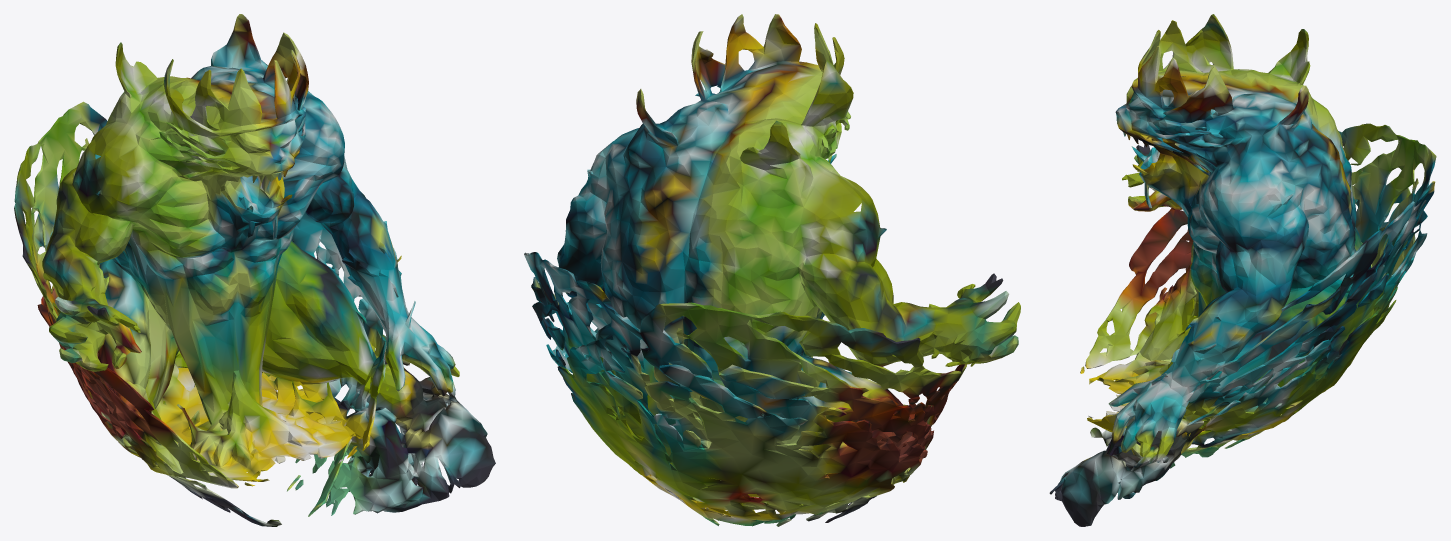
The model's file is seahorseKnight.glb.
3 views of the same model, side by side, from view 1: azimuth 30°, elevation 25°; view 2: azimuth 150°, elevation 25°; view 3: azimuth 270°, elevation 25° (orthographic). The views are drawn at different scales.
Parts seen in each view (by area): view 1: world; view 2: world; view 3: world.
Part boxes in pixels (x1,y1,x2,y2): world: [14, 14, 495, 526]; world: [524, 14, 1020, 526]; world: [1049, 14, 1436, 526].
Size of the model in its own units: 0.9541 by 1 by 0.844.
